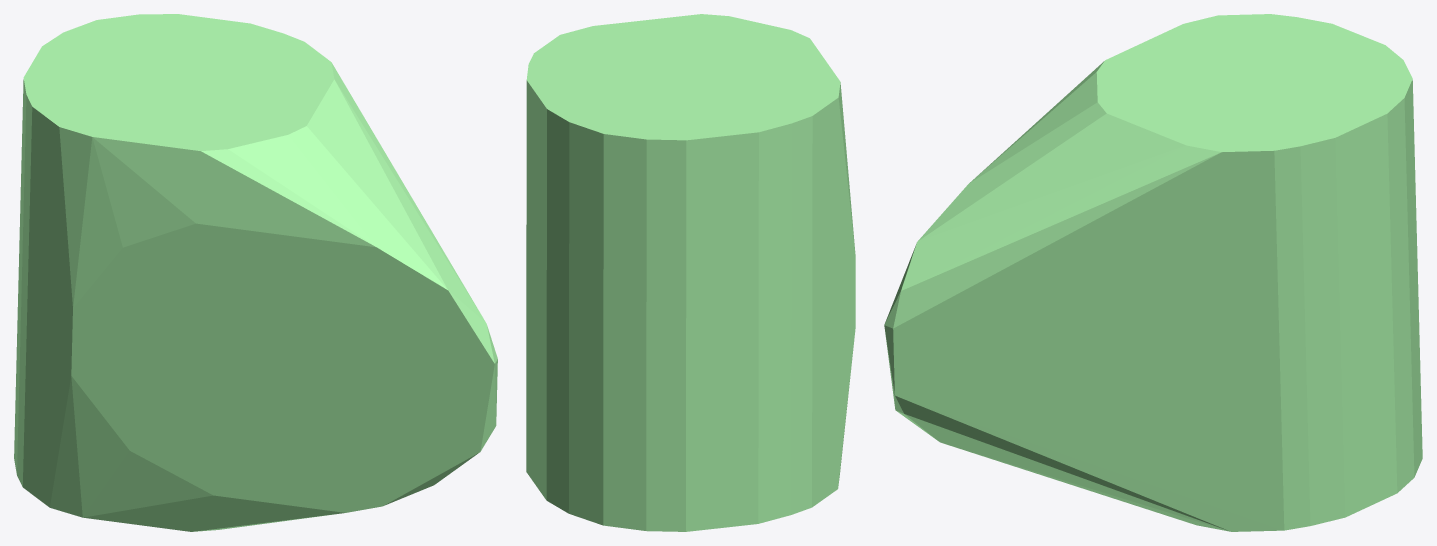
The model's file is dvkr_robot_C_link2_respondable_coll_3.dae.
3 renders of one model, left to right at view 1: azimuth 30°, elevation 25°; view 2: azimuth 150°, elevation 25°; view 3: azimuth 270°, elevation 25°, orthographic.
Parts seen in each view (by area): view 1: Node_0000023514CD9290; view 2: Node_0000023514CD9290; view 3: Node_0000023514CD9290.
Boxes of the visible parts, x1,y1,x2,y2 form: Node_0000023514CD9290: (14,14,497,531); Node_0000023514CD9290: (526,14,855,531); Node_0000023514CD9290: (884,14,1422,531).
Size of the model in its own units: 0.1326 by 0.1765 by 0.2211.
